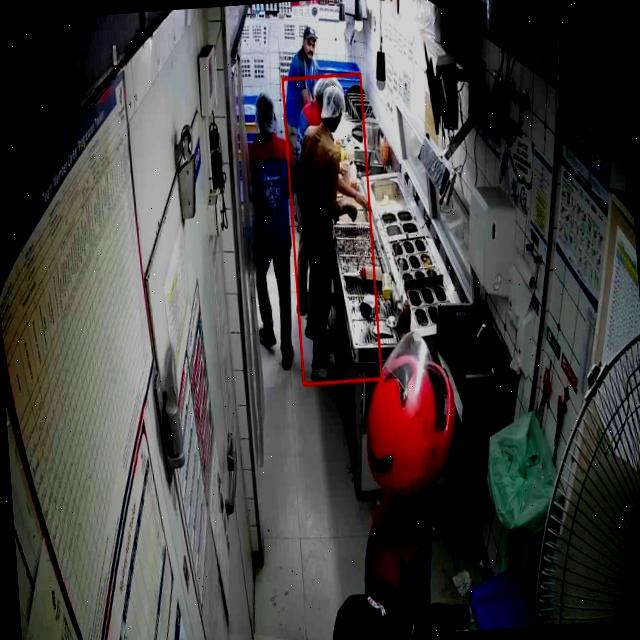helmet: (365, 329, 455, 501)
no_helmet: (321, 85, 345, 133), (255, 91, 276, 134), (302, 25, 316, 59)
